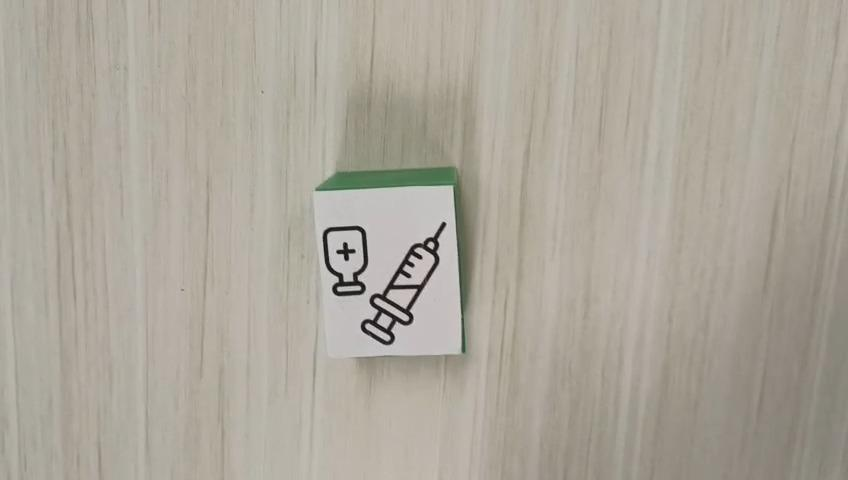antiseptic cream: (311, 166, 465, 359)
